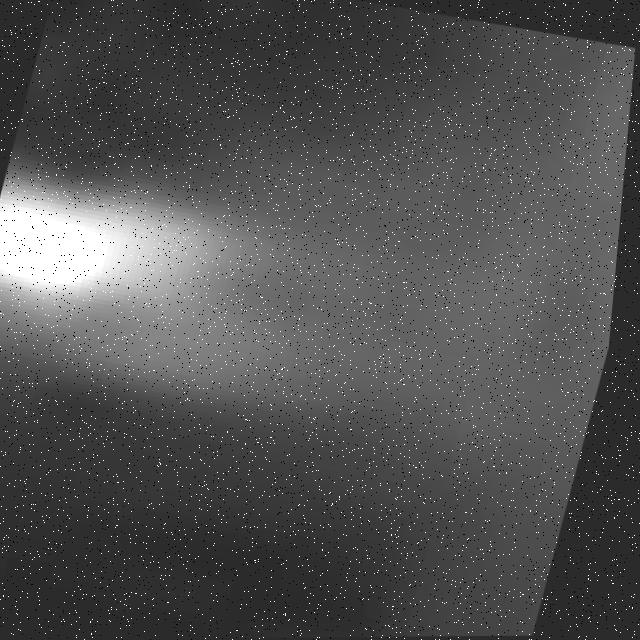person: (1, 136, 491, 433)
